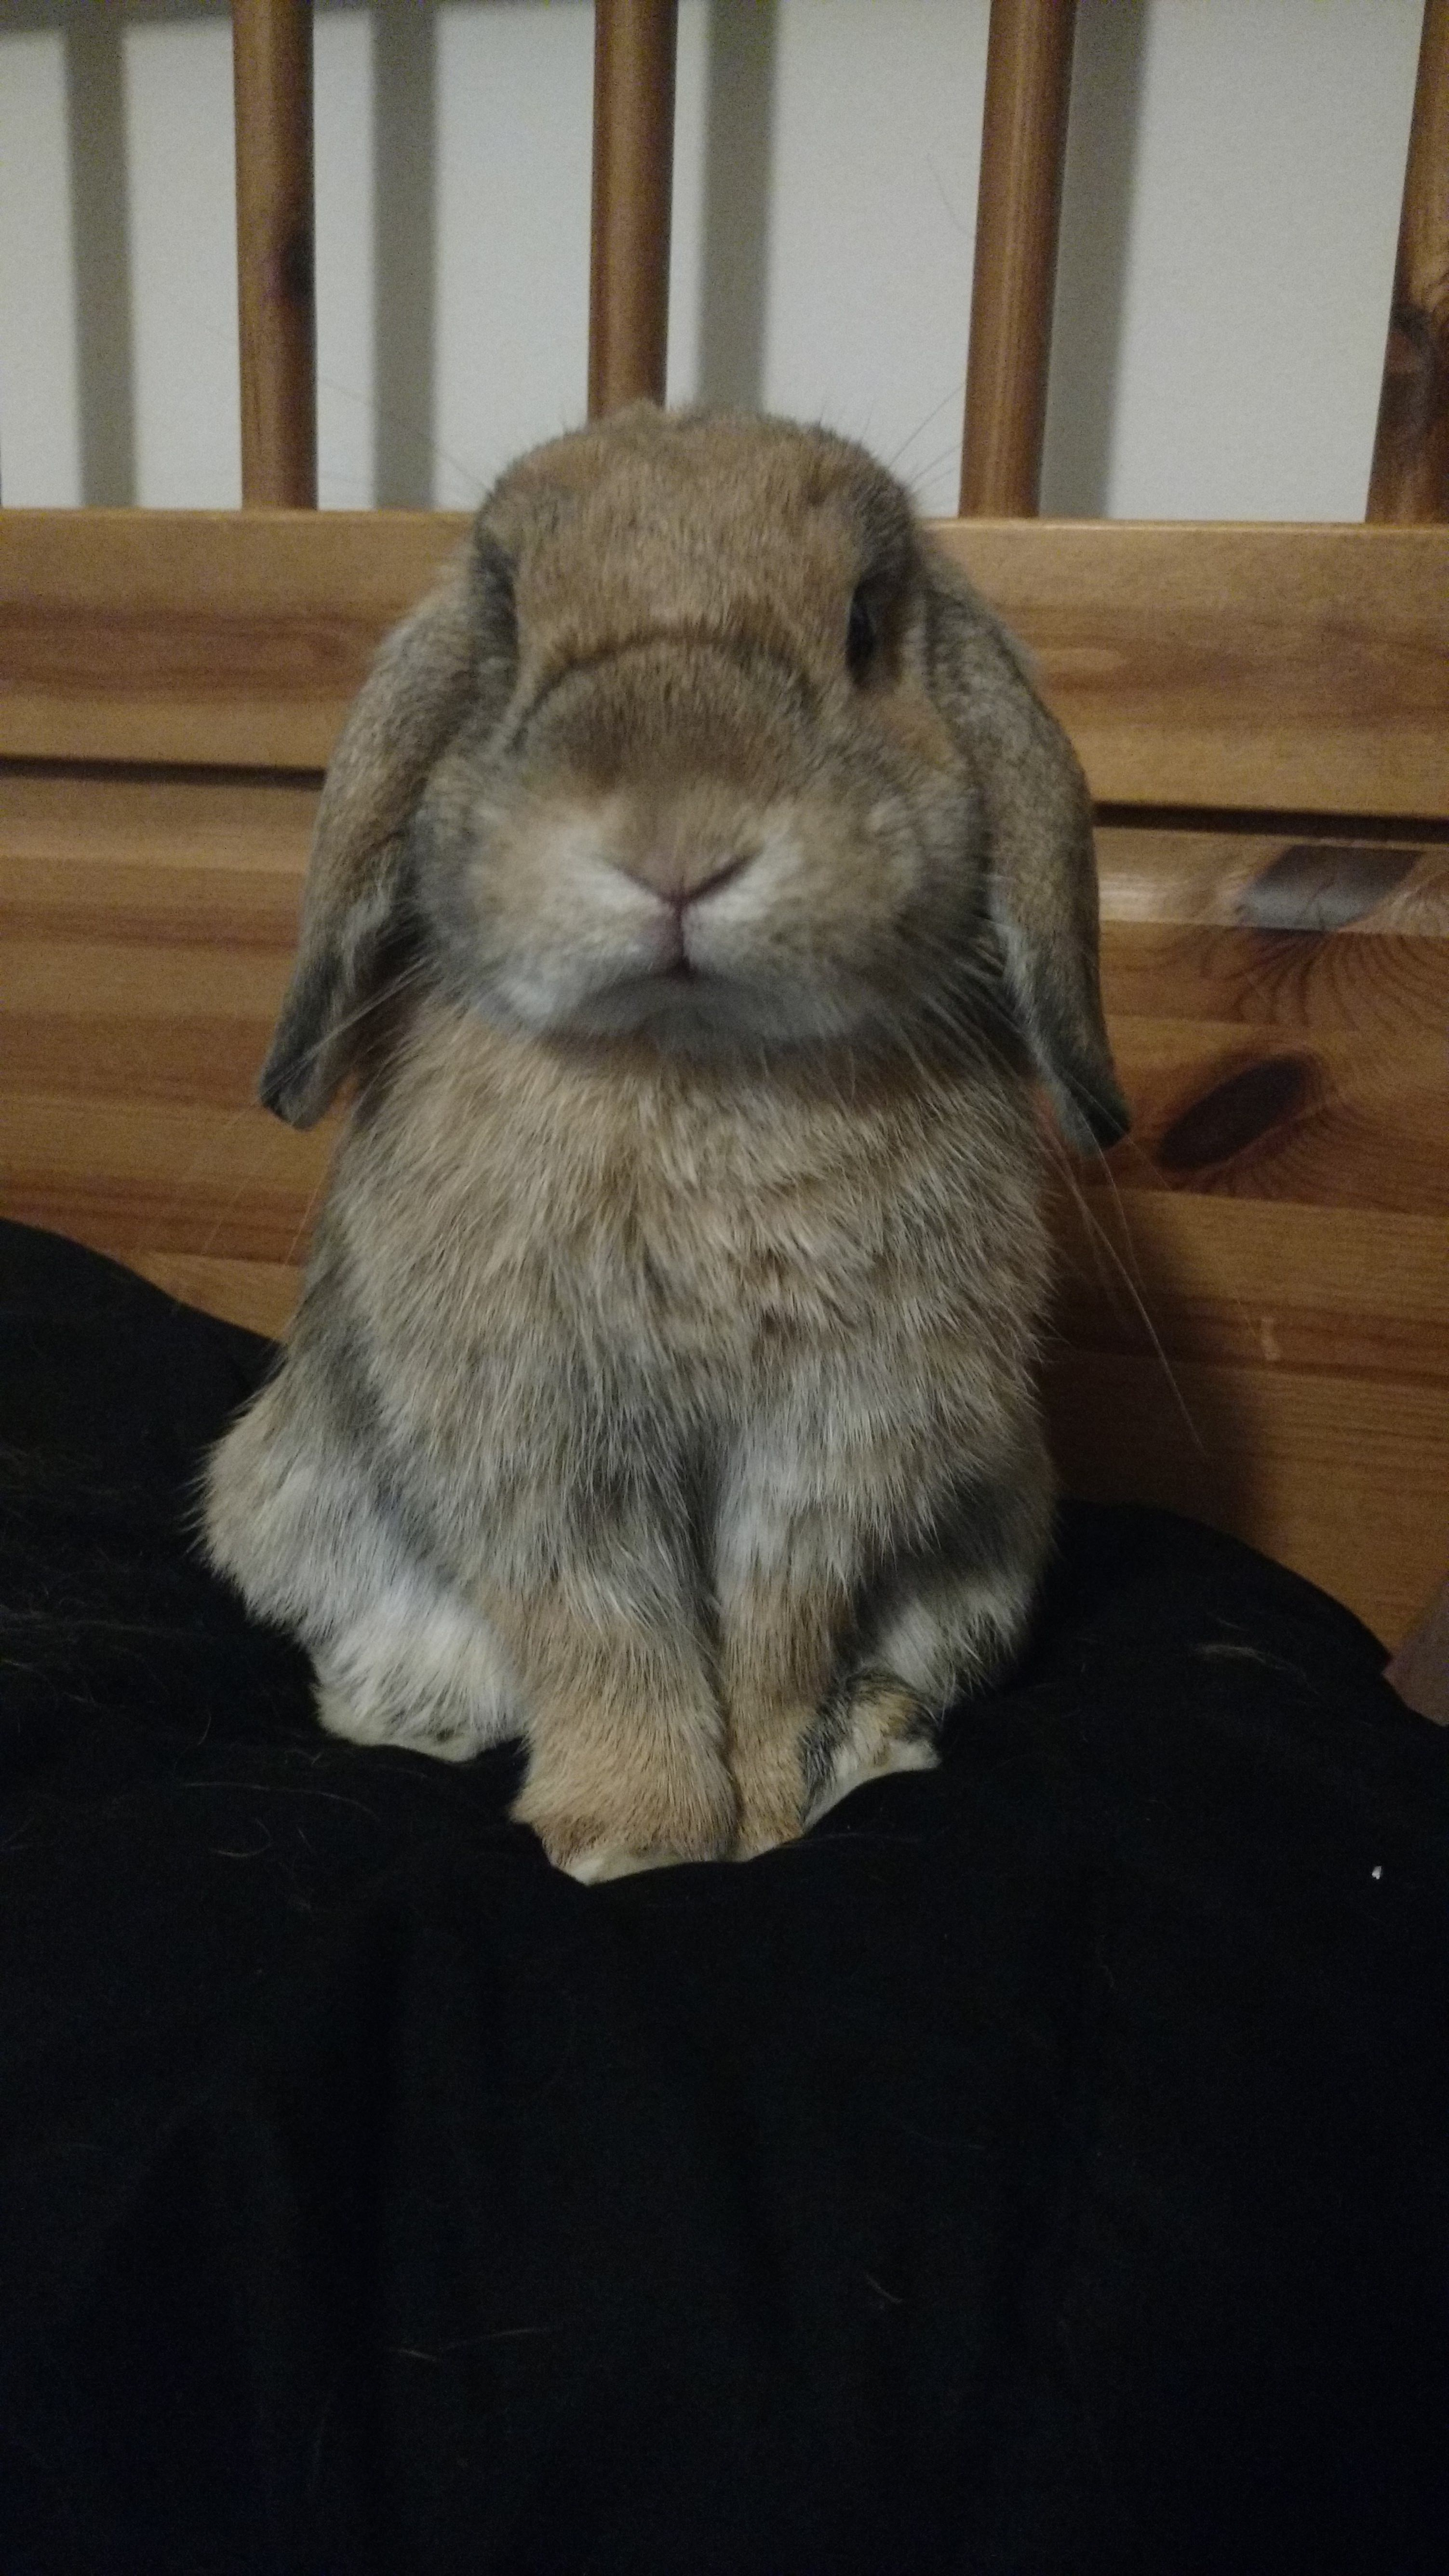bunny: (136, 345, 1168, 1881)
